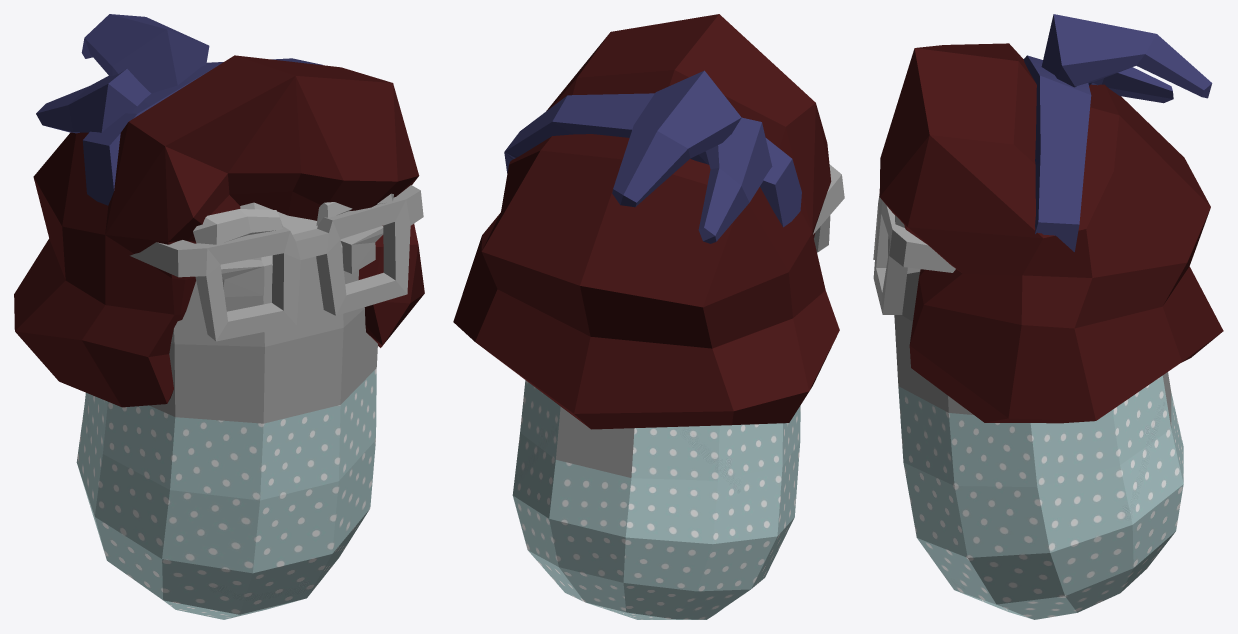
Rendered from female.fbx.
3 views of the same model, side by side, from view 1: azimuth 30°, elevation 25°; view 2: azimuth 150°, elevation 25°; view 3: azimuth 270°, elevation 25° (orthographic). The views are drawn at different scales.
Visible parts, largest first — view 1: Body, Hair01, Glasses, Hair03, Hair02, Bow, Brow_L, Eye_L, Eye_R; view 2: Hair01, Body, Hair03, Bow, Hair02, Glasses; view 3: Hair01, Body, Bow, Hair03, Glasses, Hair02.
Boxes of the visible parts, bbox=[...] form: Body: bbox=[76, 202, 377, 619]; Hair01: bbox=[14, 55, 424, 407]; Glasses: bbox=[130, 185, 423, 341]; Hair03: bbox=[81, 14, 209, 93]; Hair02: bbox=[36, 69, 151, 133]; Bow: bbox=[82, 58, 322, 205]; Brow_L: bbox=[193, 209, 282, 244]; Eye_L: bbox=[220, 259, 264, 297]; Eye_R: bbox=[340, 226, 383, 273]; Hair01: bbox=[453, 14, 839, 429]; Body: bbox=[512, 380, 800, 619]; Hair03: bbox=[612, 70, 741, 207]; Bow: bbox=[504, 93, 801, 227]; Hair02: bbox=[698, 117, 772, 243]; Glasses: bbox=[813, 164, 844, 252]; Hair01: bbox=[879, 43, 1223, 423]; Body: bbox=[894, 271, 1183, 619]; Bow: bbox=[1023, 55, 1091, 251]; Hair03: bbox=[1041, 14, 1212, 98]; Glasses: bbox=[873, 194, 955, 314]; Hair02: bbox=[1091, 67, 1173, 103].
Bounding box in the file's own units: 1.29 × 1.94 × 1.09.
Materials: 5 (1 with a texture image).
